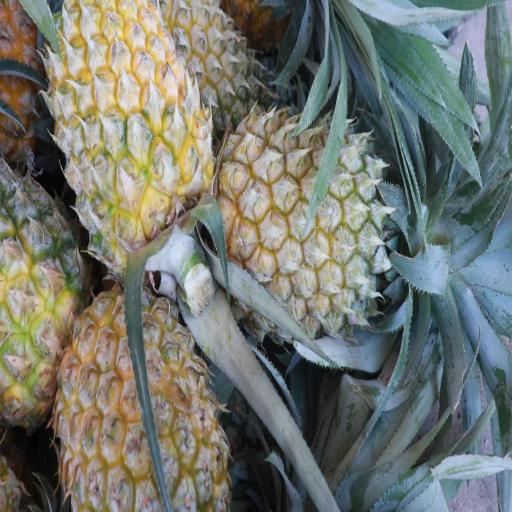------------------------------: (0, 168, 95, 434)
Pineapple - v8 v1: (43, 0, 217, 310), (208, 106, 414, 352), (51, 276, 238, 512)
